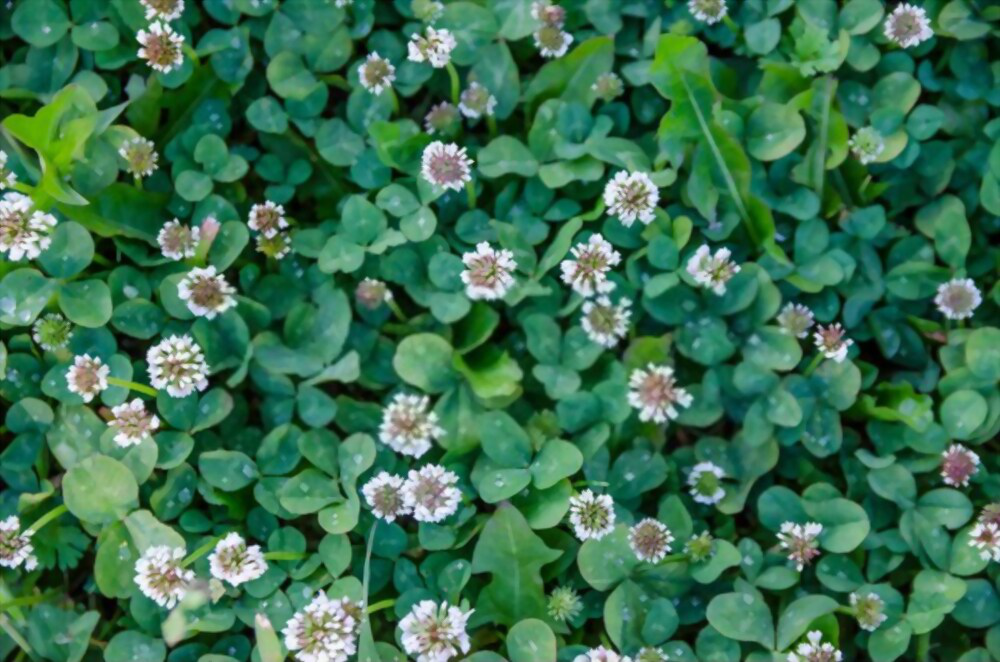clover: (5, 1, 993, 661)
